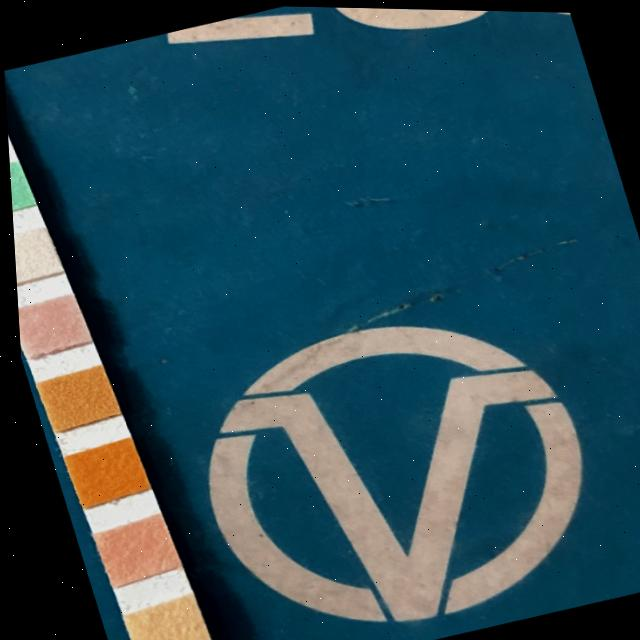Bilirubin: (11, 228, 58, 288)
Blood: (62, 440, 143, 504)
Glucose: (7, 161, 30, 217)
Ketone: (14, 294, 84, 354)
Protein: (117, 596, 201, 640)
SpGravity: (34, 366, 115, 430)
pH: (90, 517, 171, 582)
